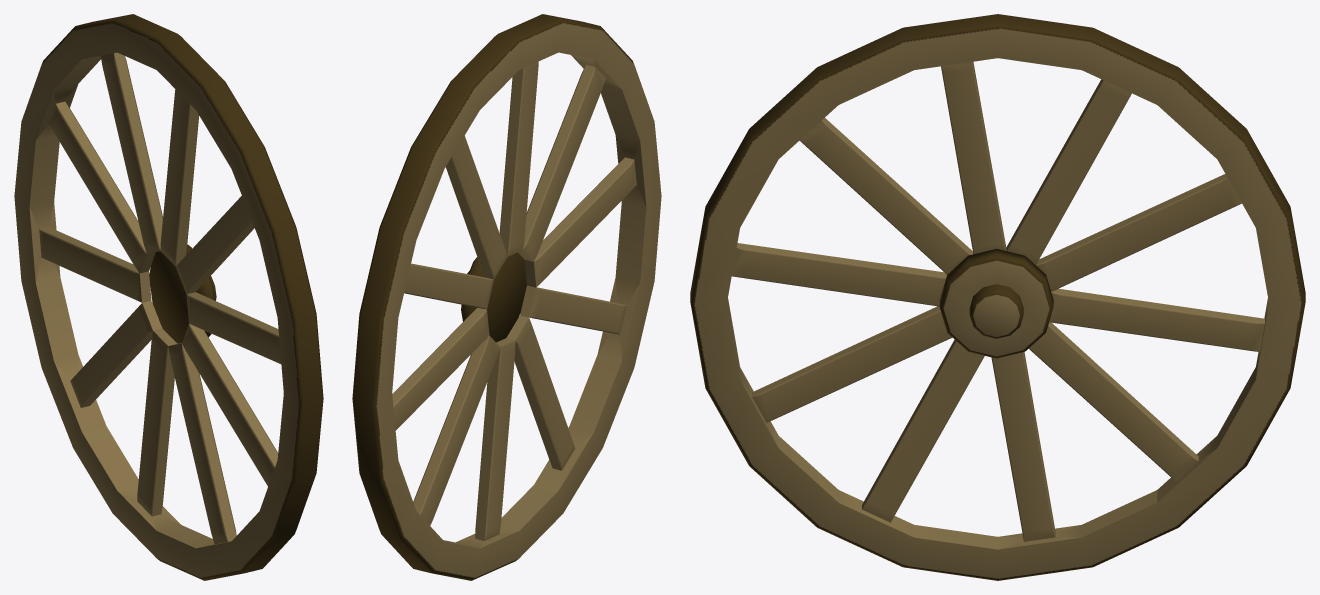
The model's file is mdl_wheel_bl.fbx.
3 renders of one model, left to right at view 1: azimuth 30°, elevation 25°; view 2: azimuth 150°, elevation 25°; view 3: azimuth 270°, elevation 25°, orthographic. The views are drawn at different scales.
Visible parts, largest first — view 1: SM_Wheel_BL; view 2: SM_Wheel_BL; view 3: SM_Wheel_BL.
Part boxes in pixels (box(x1,y1,x2,y2)): SM_Wheel_BL: box(14, 14, 323, 580); SM_Wheel_BL: box(352, 14, 661, 580); SM_Wheel_BL: box(690, 14, 1305, 580).
Size of the model in its own units: 0.098 by 1.01 by 1.01.
1 material, 1 textured.
